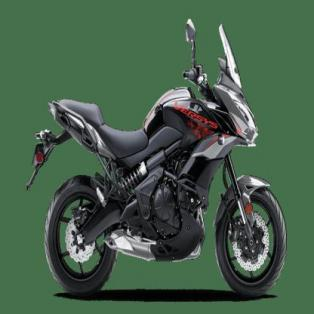Motocicleta: (24, 14, 289, 298)
